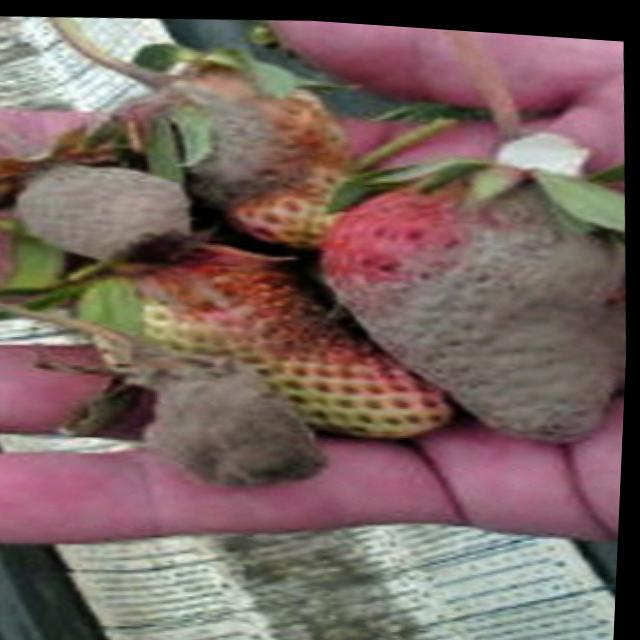Gray Mold: (320, 167, 629, 439), (151, 238, 408, 376), (102, 73, 344, 218), (140, 360, 334, 488), (14, 160, 196, 258)
